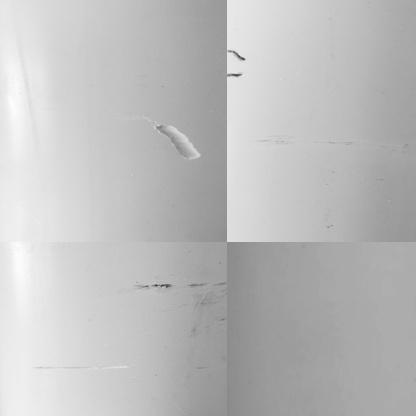fengxi: (224, 45, 245, 62), (225, 72, 243, 80)
sunshang: (149, 120, 206, 163), (29, 362, 135, 372)
